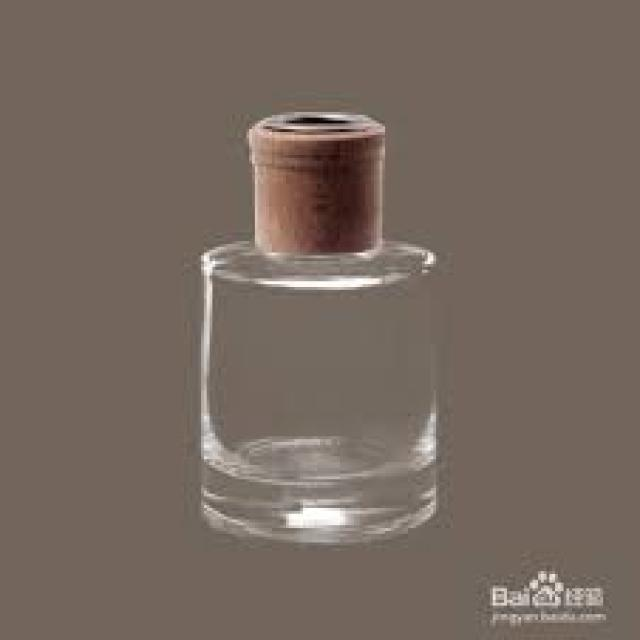glass: (198, 236, 439, 540)
